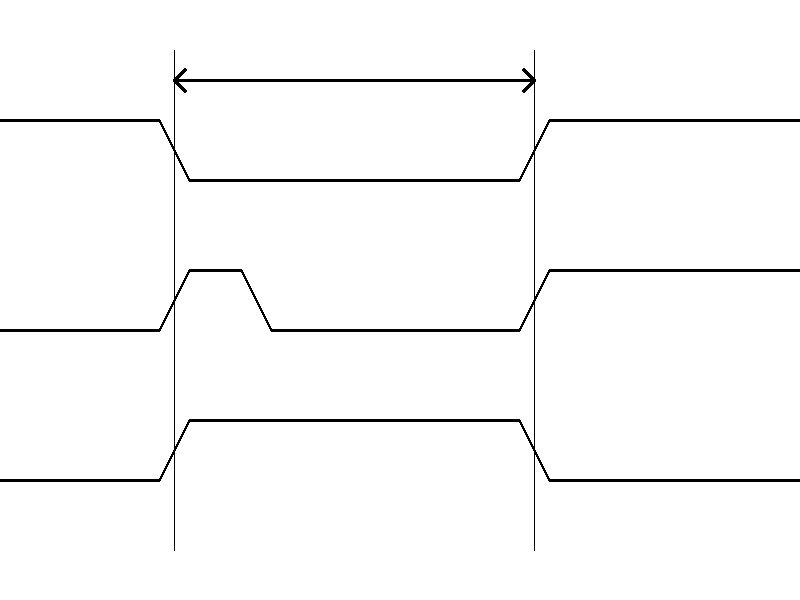double_arrow: (174, 65, 534, 95)
